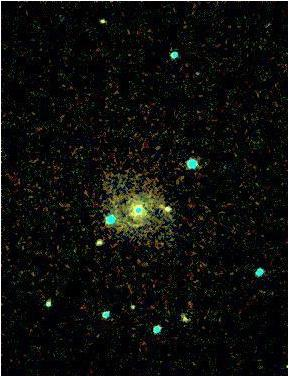star: (147, 189, 177, 219)
